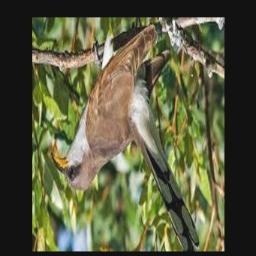Cuckoo: (50, 26, 199, 251)
